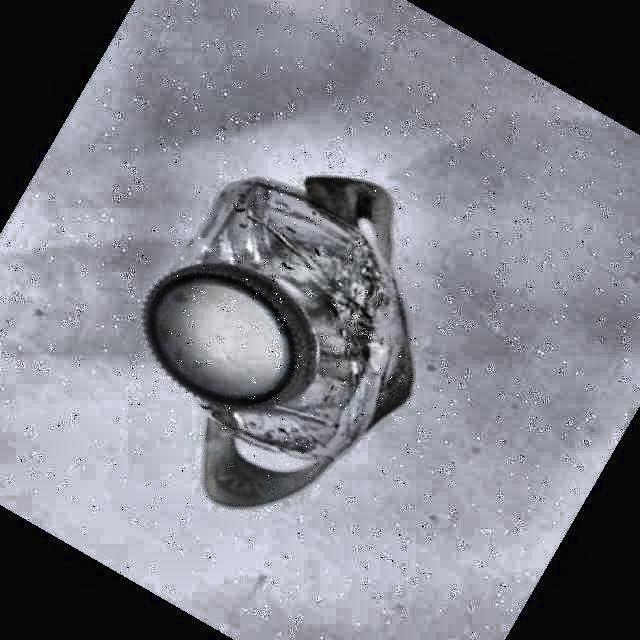plastic: (145, 179, 412, 506)
